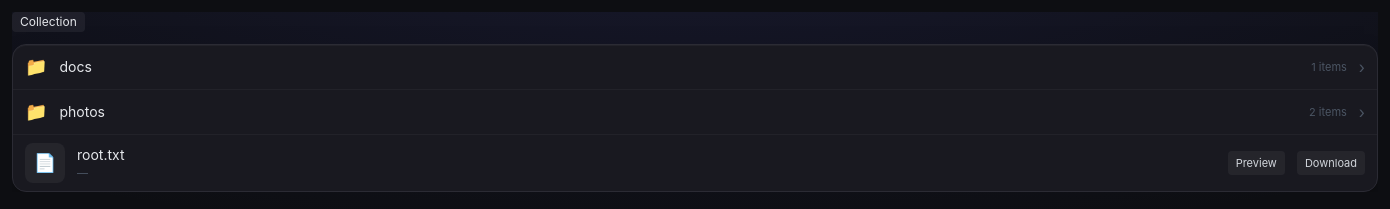
CollectionBrowser folder navigation › entering a folder shows its children with sizes; breadcrumb navigates back
This screenshot has width=1390, height=209.
Click the text "photos": (82, 112) [60,103,105,120]
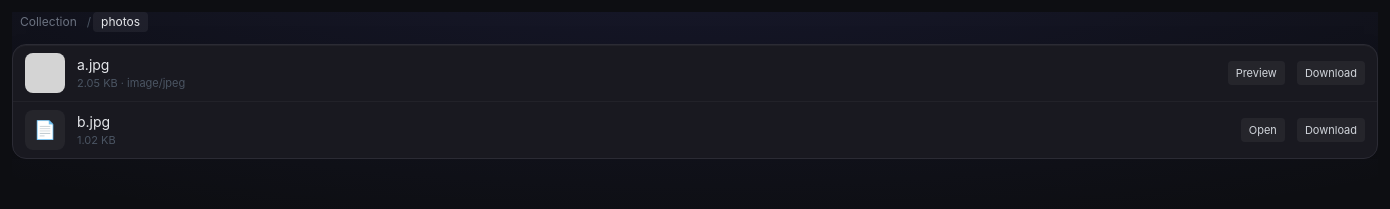
Now the text "a.jpg" is shown, box [77,55,110,75]
Now the text "b.jpg" is shown, box [77,112,110,132]
Now the text "2.05 KB · image/jpeg" is shown, box [77,76,185,90]
Note: 面包屑：Collection / photos，点 Collection 回根
Click the button "Collection": (48, 22) [12,12,85,32]
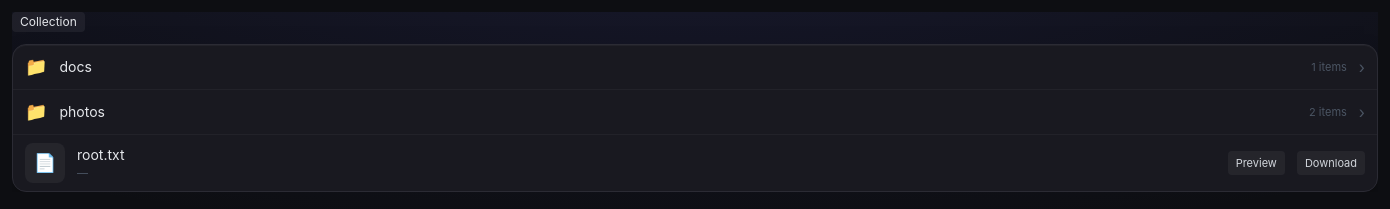
Now the text "root.txt" is shown, box [77,145,124,165]
